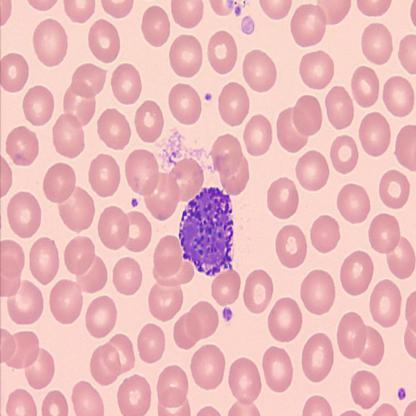Basophil: (176, 184, 235, 279)
